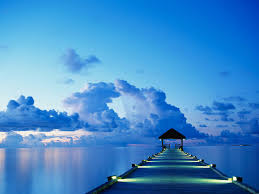sea: (6, 140, 259, 190)
sky: (3, 2, 255, 140)
